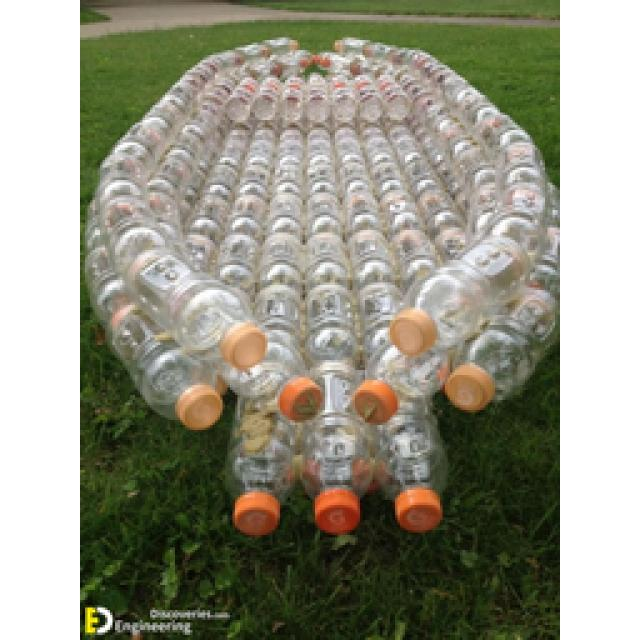plastic_soda_bottles: (118, 246, 268, 374), (388, 239, 530, 363), (444, 289, 563, 415), (105, 300, 221, 424), (372, 401, 451, 529), (226, 401, 299, 537), (296, 415, 376, 533)
